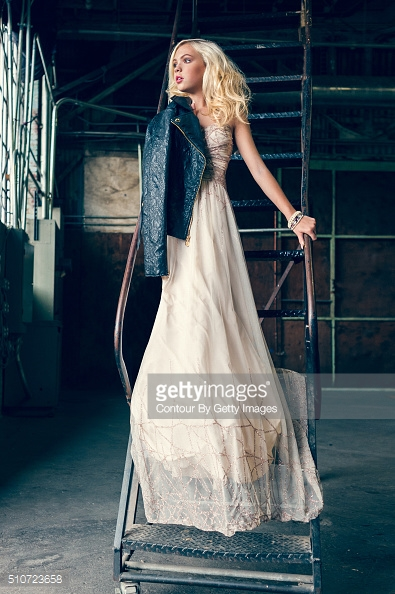em pe: (117, 1, 302, 531)
